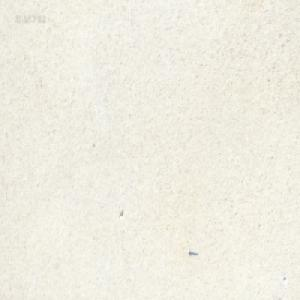Nail: (188, 249, 198, 255)
